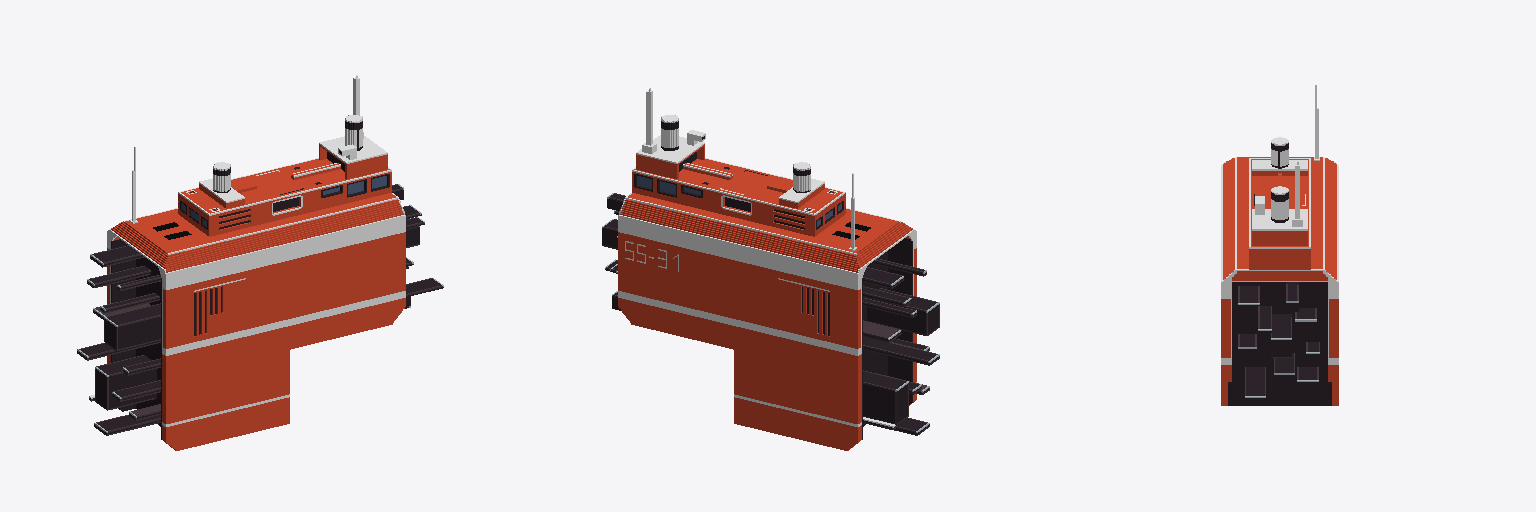
3 renders of one model, left to right at view 1: azimuth 30°, elevation 25°; view 2: azimuth 150°, elevation 25°; view 3: azimuth 270°, elevation 25°, orthographic.
Visible parts, largest first — view 1: object 1; view 2: object 1; view 3: object 1.
Part boxes in pixels (bbox=[...]): object 1: bbox=[77, 75, 443, 450]; object 1: bbox=[602, 88, 939, 450]; object 1: bbox=[1221, 85, 1338, 405].
Bounding box in the file's own units: 25.5 × 21.1 × 7.6.
Materials: 1 (1 with a texture image).